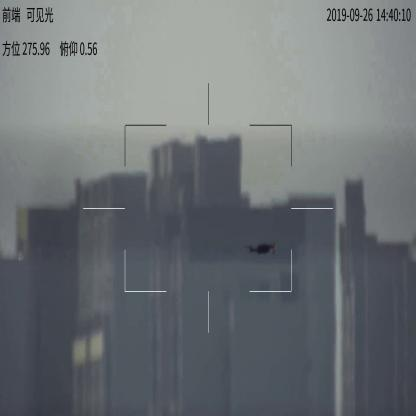uav: (243, 239, 275, 258)
